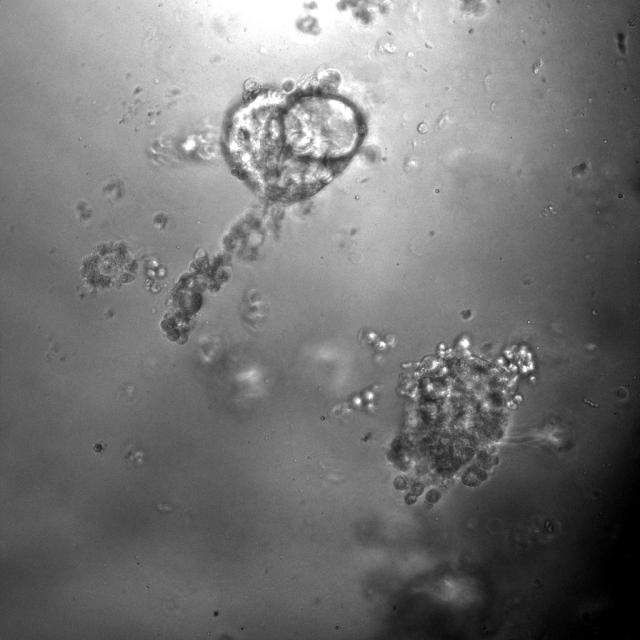organoid: (160, 67, 371, 346), (386, 336, 535, 506), (81, 240, 138, 291), (331, 385, 378, 420), (337, 0, 391, 24), (359, 327, 396, 355), (142, 255, 168, 292), (153, 211, 168, 229), (540, 204, 558, 217), (417, 121, 429, 134)
